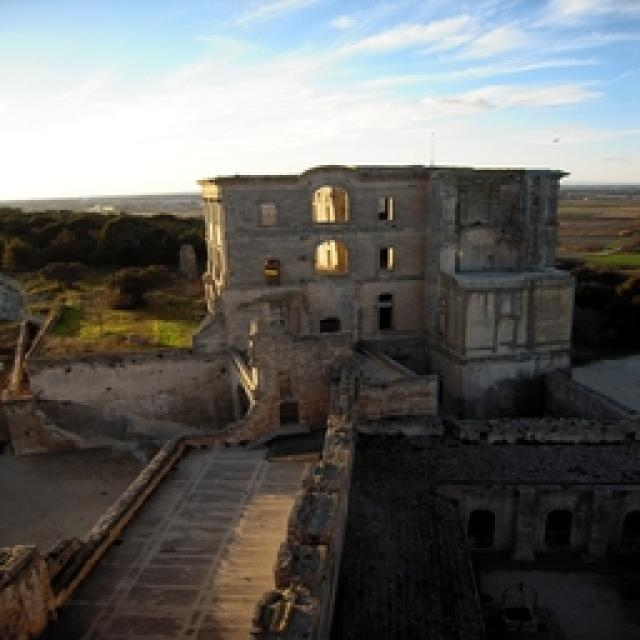Abbey: (188, 132, 611, 427)
